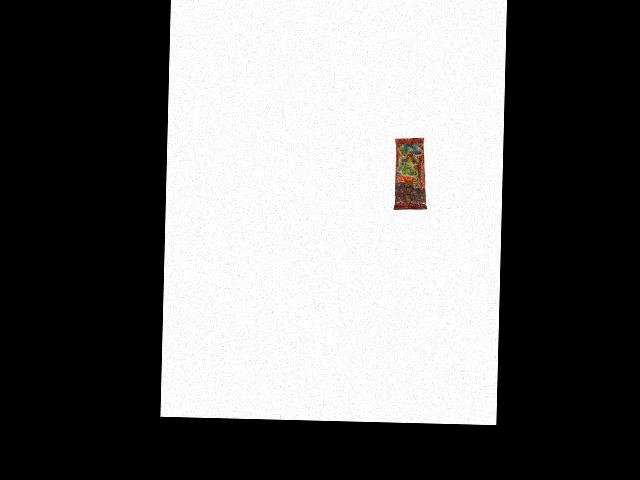chocolate: (393, 136, 427, 210)
